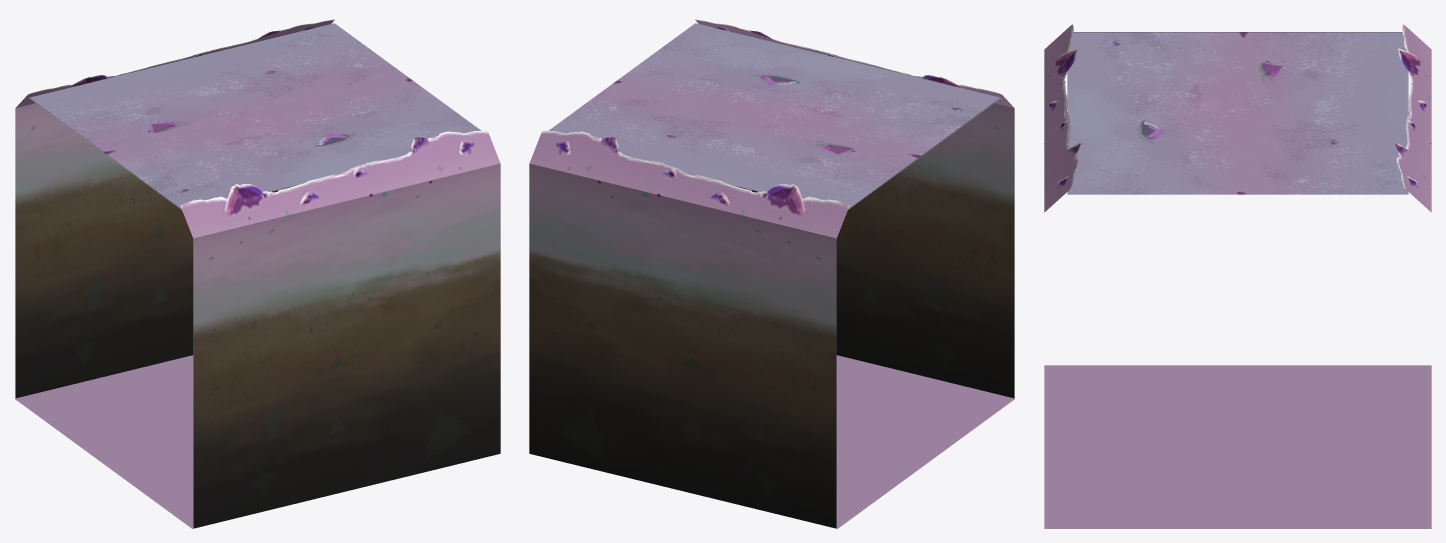
The picture shows the model from 3 angles, left to right: view 1: azimuth 30°, elevation 25°; view 2: azimuth 150°, elevation 25°; view 3: azimuth 270°, elevation 25°; orthographic projection. The views are drawn at different scales.
Parts seen in each view (by area): view 1: polySurface6, polySurface7; view 2: polySurface6, polySurface7; view 3: polySurface6, polySurface7.
Boxes of the visible parts, box(x1,y1,x2,y2) form: polySurface6: box(15, 19, 500, 528); polySurface7: box(29, 23, 490, 209); polySurface6: box(529, 19, 1014, 528); polySurface7: box(539, 23, 1002, 209); polySurface6: box(1044, 24, 1431, 528); polySurface7: box(1067, 32, 1408, 194).
Size of the model in its own units: 100 by 100 by 100.
1 material, 1 textured.
